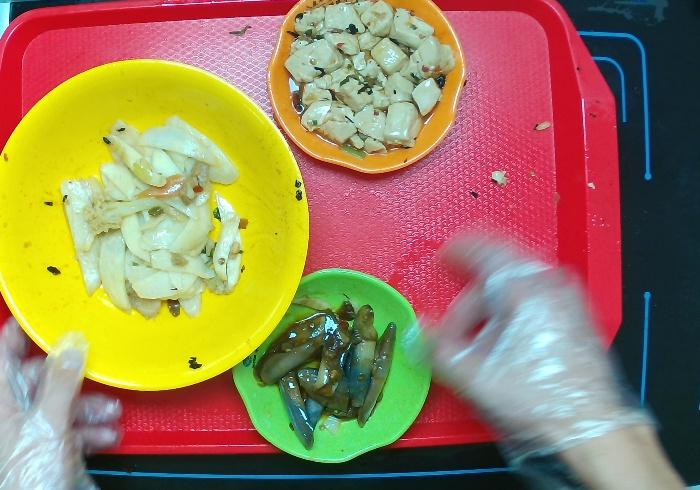YKMZ-Huang_Se_Tang_Wan: (1, 55, 310, 392)
YKMZ-Ju_Se_Ao_Bian_Wan: (267, 1, 464, 174)
YKMZ-Lv_Se_Ao_Bian_Wan: (233, 265, 432, 466)
